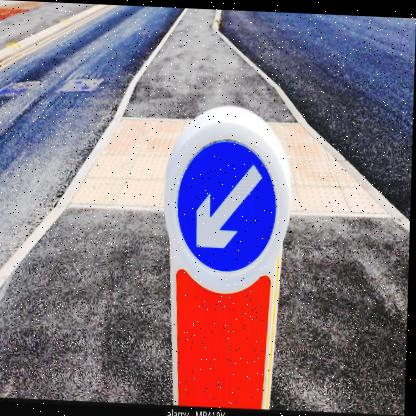Keep left: (175, 130, 285, 276)
